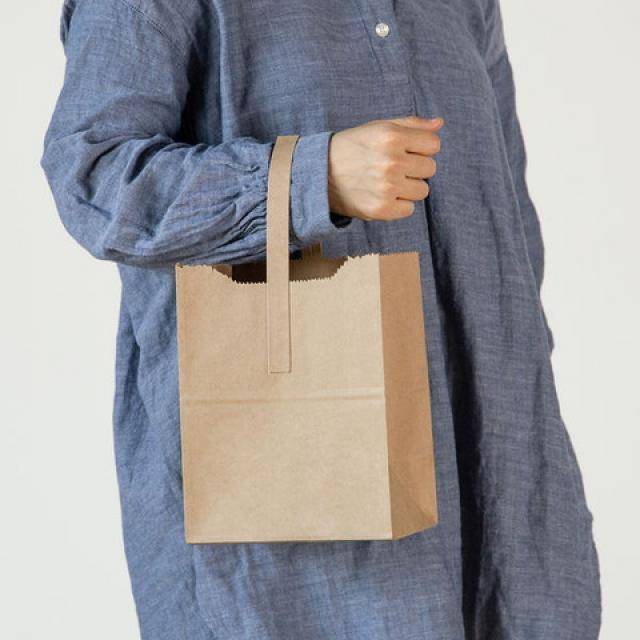paper bag: (170, 132, 441, 546)
